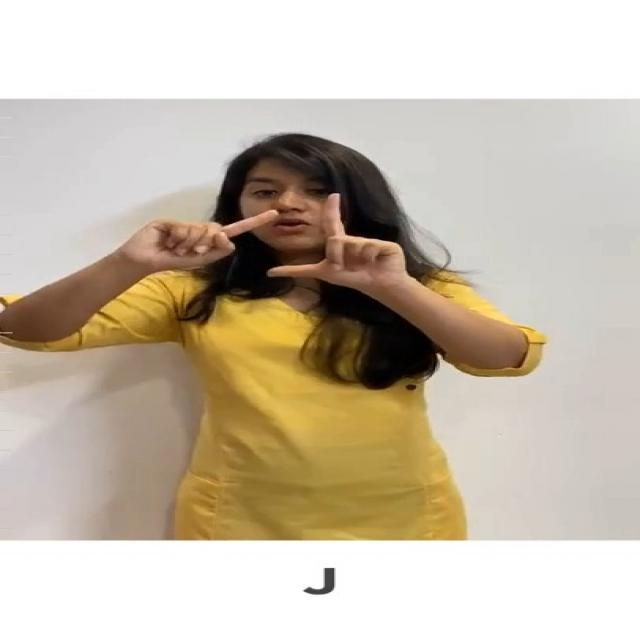J: (118, 187, 424, 295)
